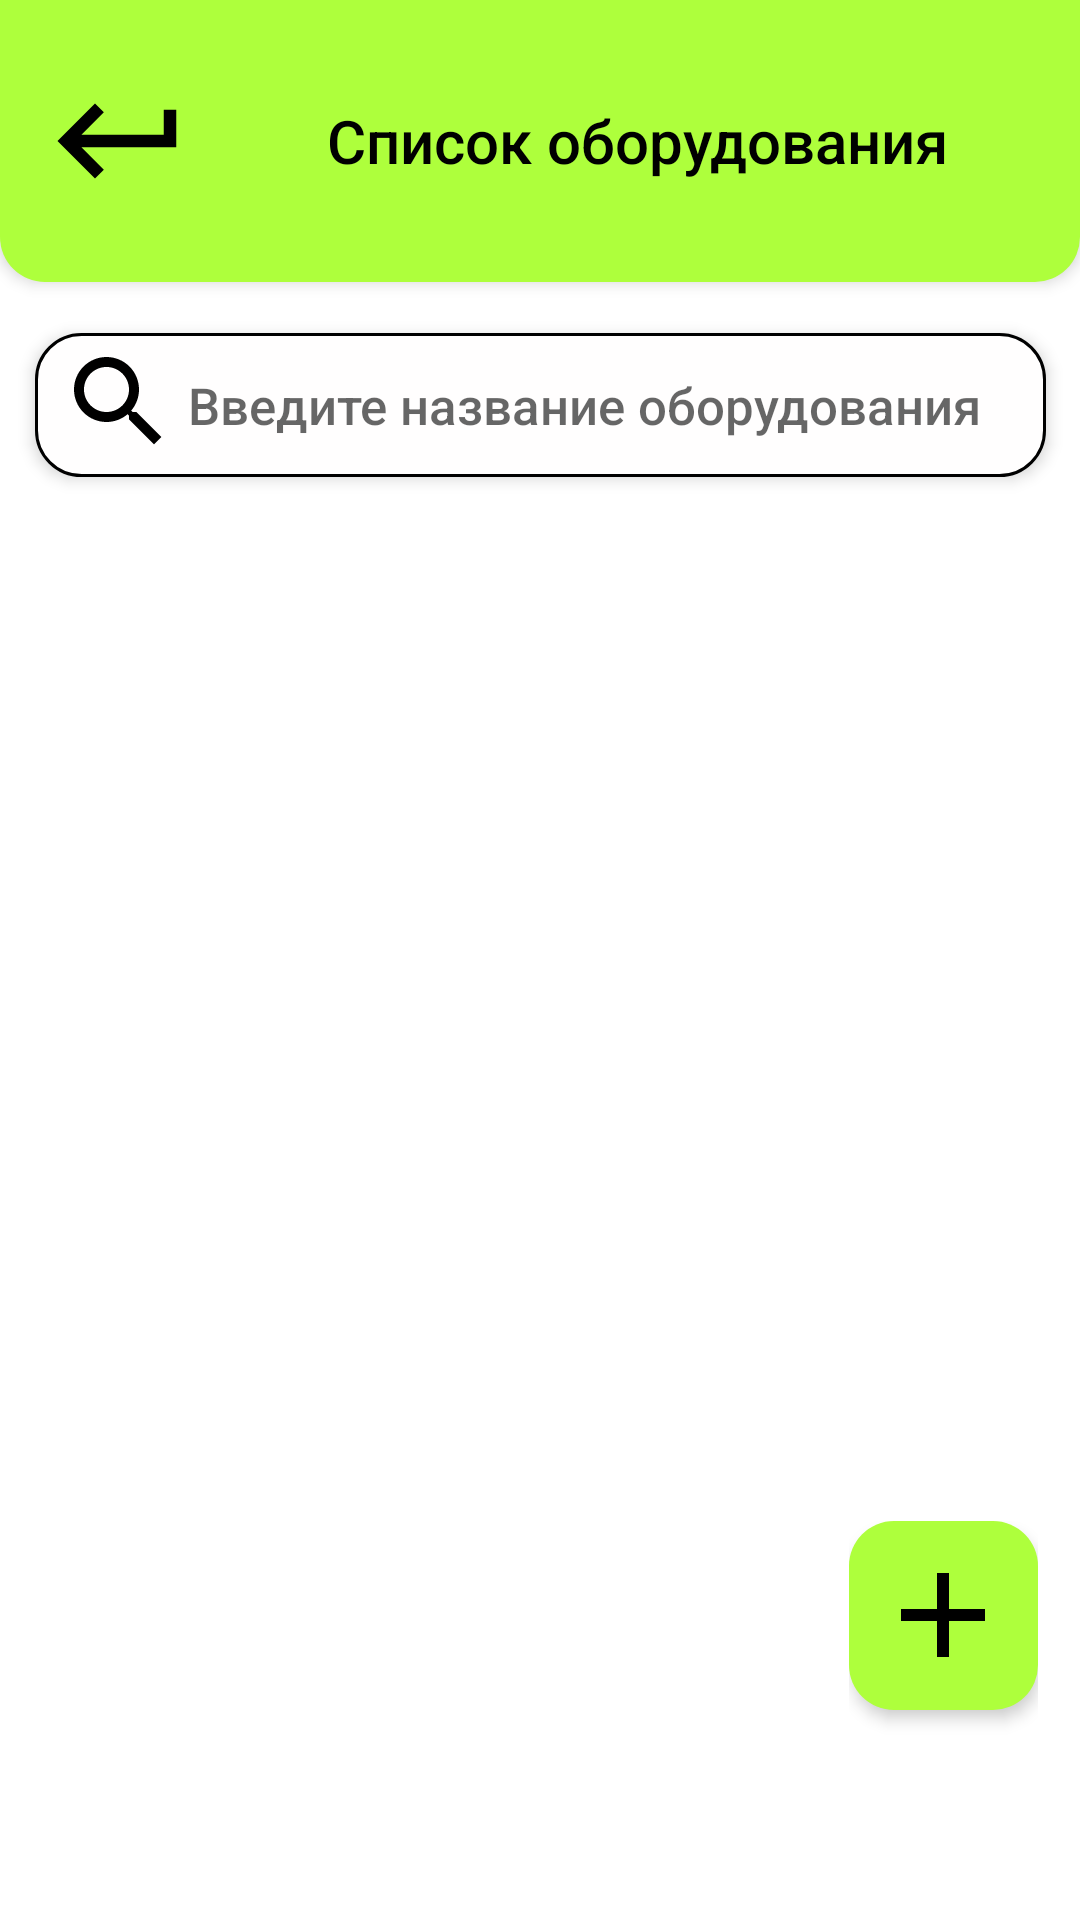

Locate icon controls on the screen. Image size 1080 x 1920, boxes as (x1, y1, x2, y2).
Добавление кабинетов: (901, 1573, 985, 1657)
кнопка возврата: (57, 103, 177, 179)
Поиск: (74, 357, 161, 444)
